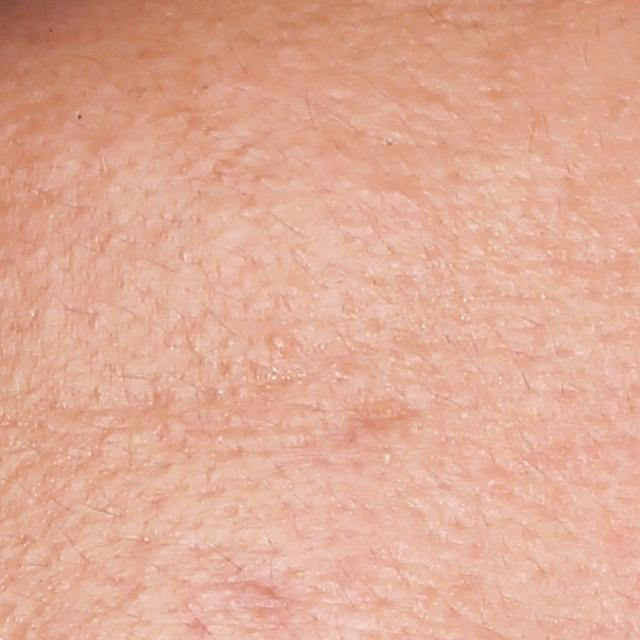atrophic_scar: (350, 397, 425, 432), (114, 388, 177, 427)
comedo: (269, 331, 294, 350), (73, 108, 88, 123)
